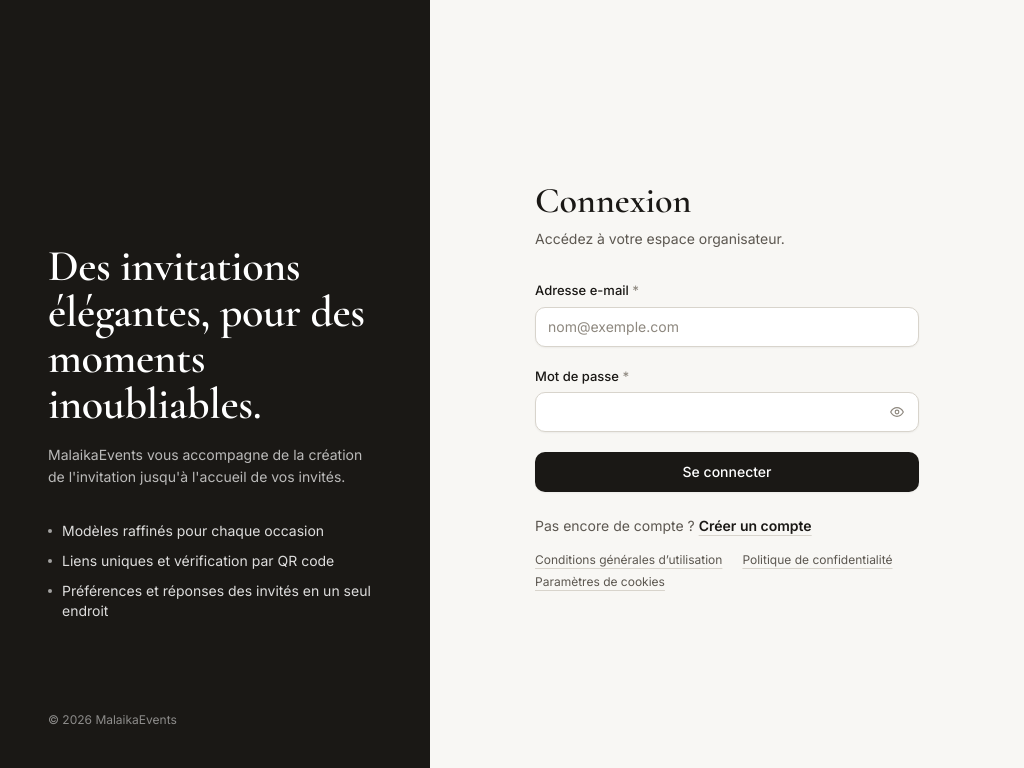
Test case: LoginPage › shows the backend message on invalid credentials
Expected: the heading "Connexion" is shown, [535,179,691,222]
In the field labelled "Adresse e-mail *": (727,326) [535,306,919,346], type "organisateur@nickevents.cd"
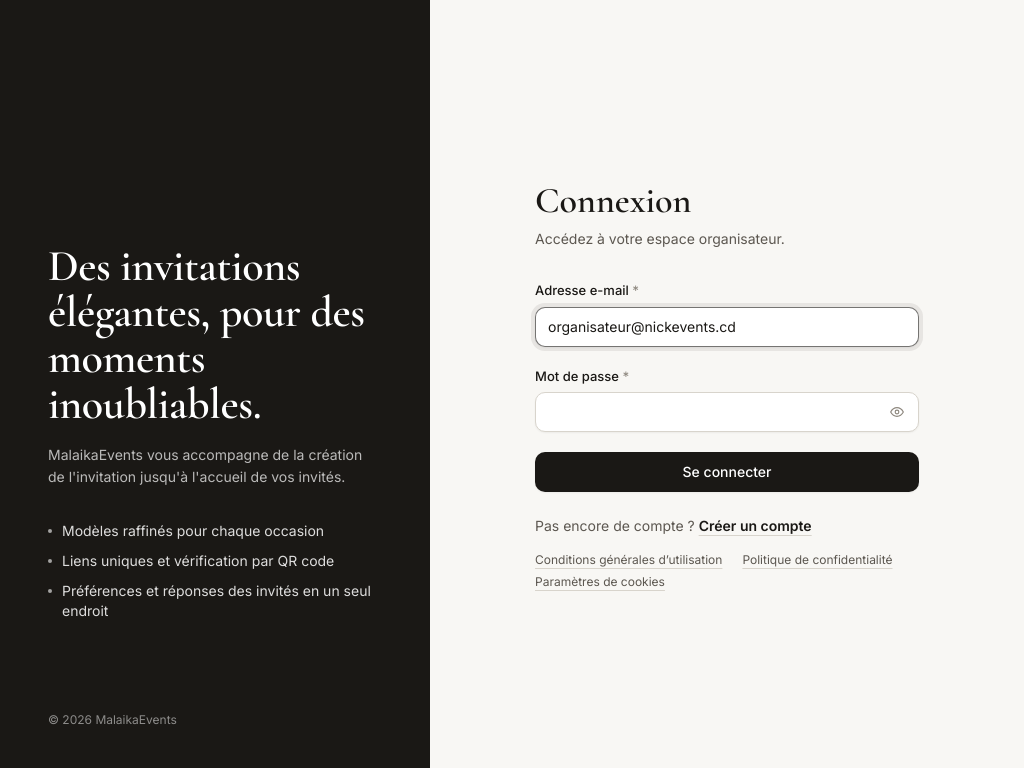
In the password field labelled "Mot de passe *": (727,412) [535,392,919,432], type "mauvais-mdp"
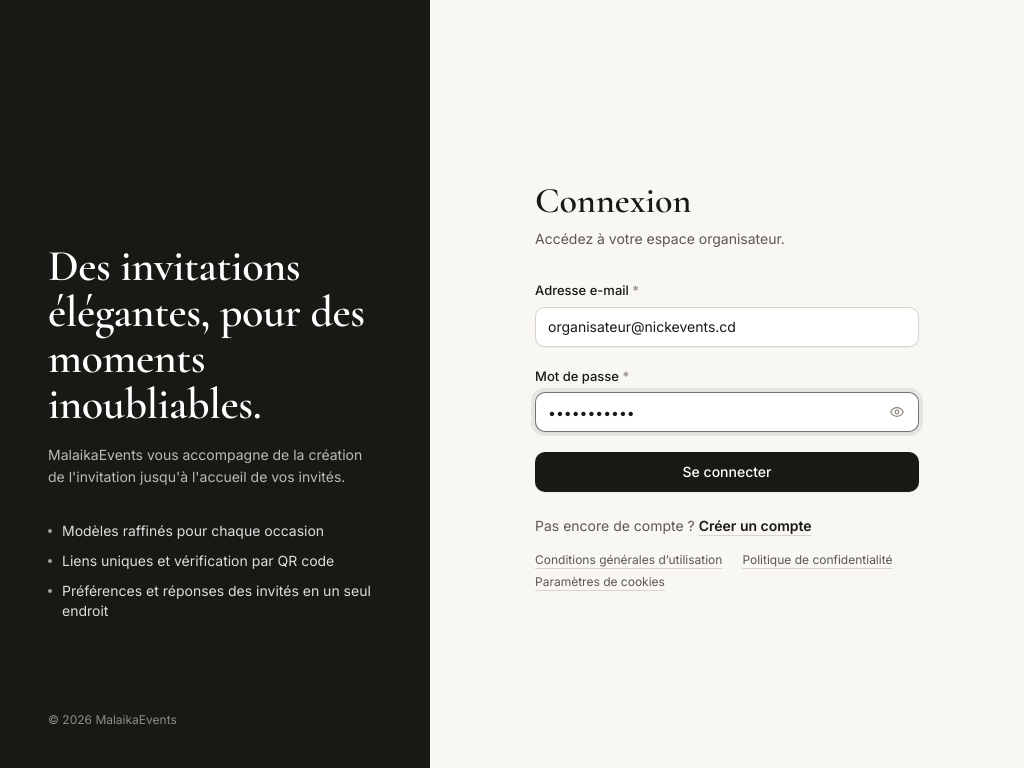
Click the button "Se connecter": (727,472) [535,452,919,492]
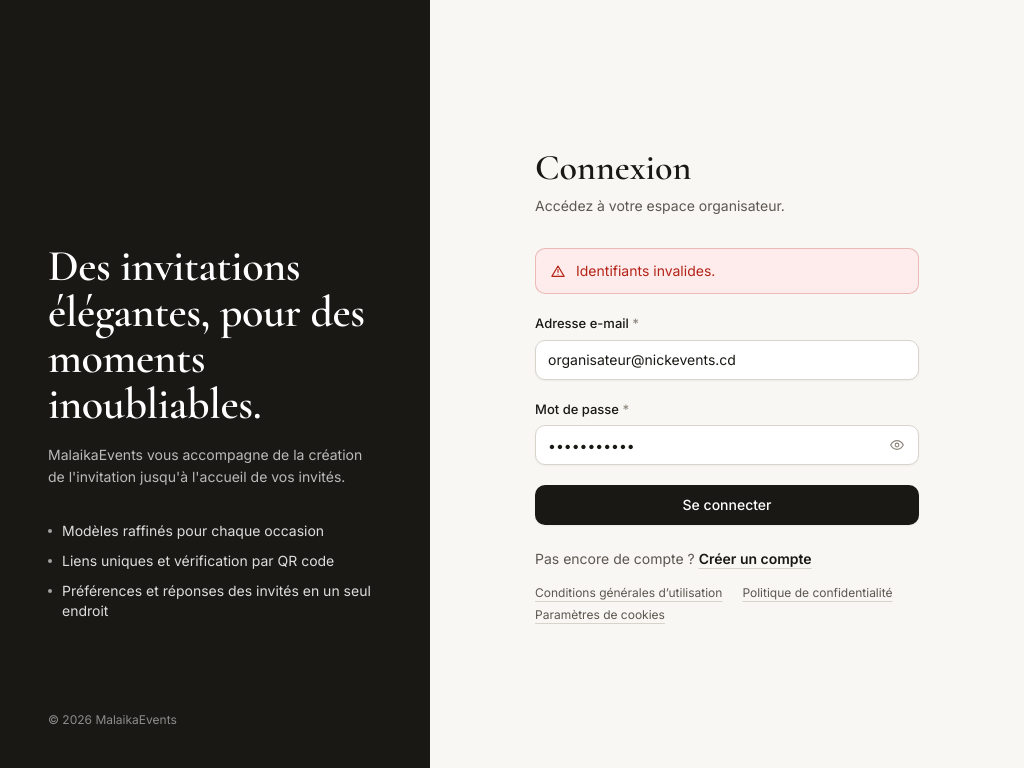
Expected: the message reads "Identifiants invalides.", [576,262,715,279]
